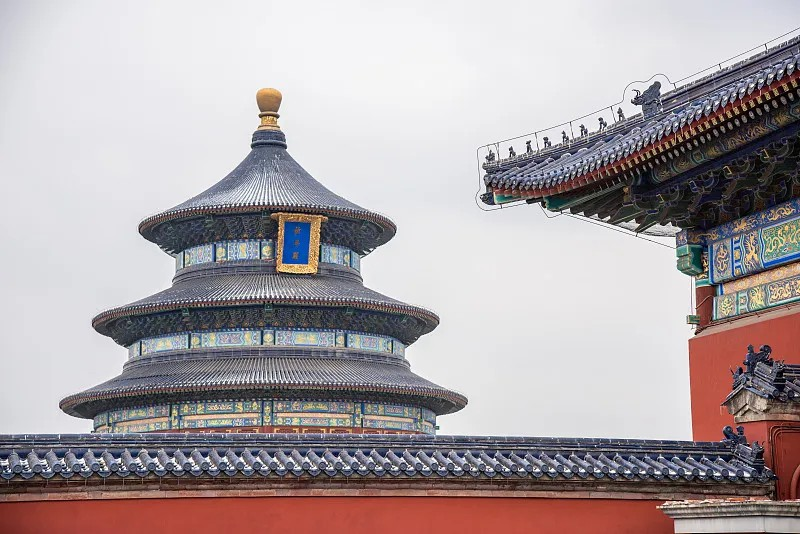Heaven: (58, 87, 468, 434)
